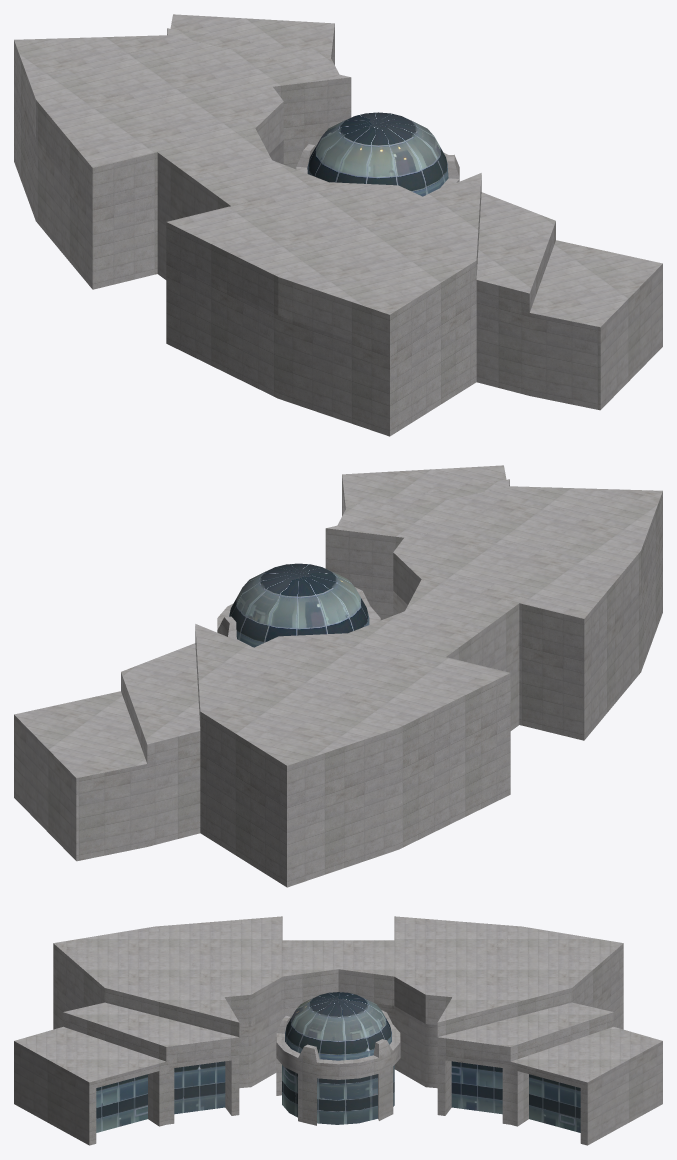
The model's file is builder_24.FBX.
3 renders of one model, top to bottom at view 1: azimuth 30°, elevation 25°; view 2: azimuth 150°, elevation 25°; view 3: azimuth 270°, elevation 25°, orthographic. The views are drawn at different scales.
Visible parts, largest first — view 1: builder_24; view 2: builder_24; view 3: builder_24.
Boxes of the visible parts, x1,y1,x2,y2 form: builder_24: (14, 14, 662, 436); builder_24: (14, 465, 662, 887); builder_24: (14, 916, 662, 1145).
Bounding box in the file's own units: 18019 × 6162 × 36113.
